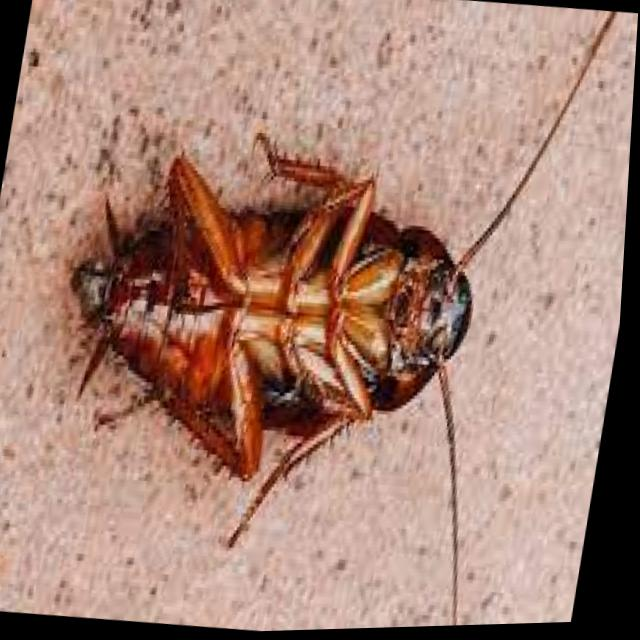Cockroach: (13, 0, 627, 639)
